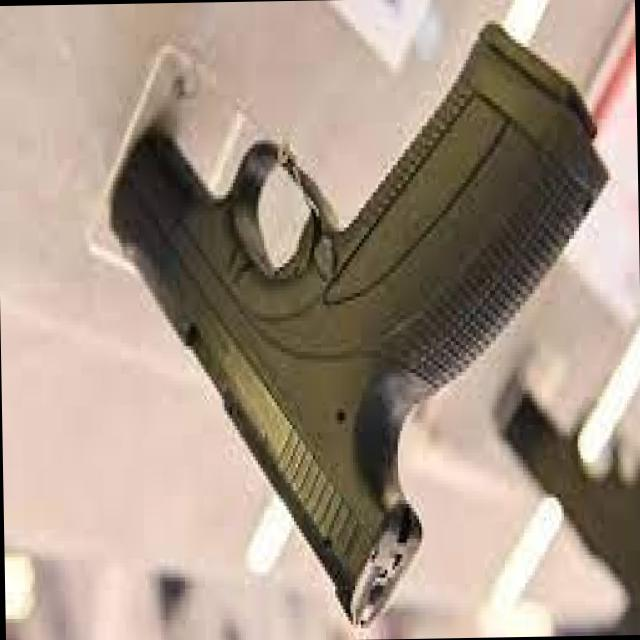Gun: (100, 37, 623, 640)
